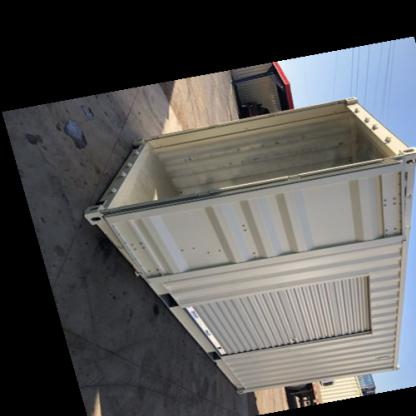Damage: (198, 133, 376, 185)
